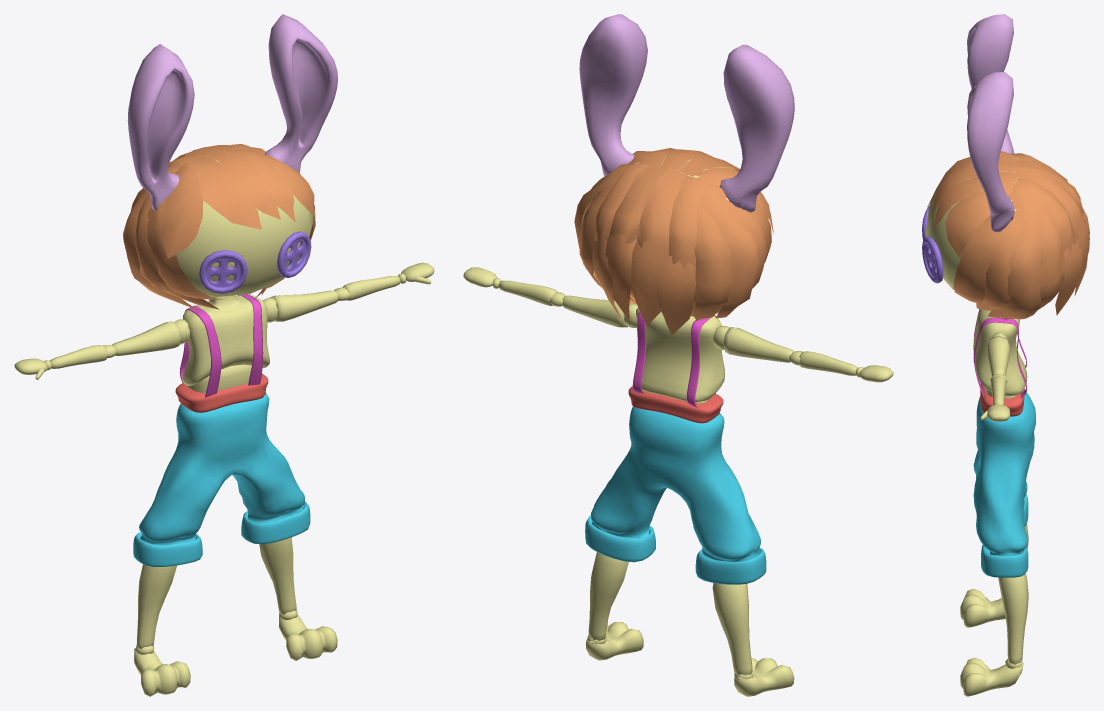
Rendered from Cordelia4.fbx.
The picture shows the model from 3 angles, left to right: view 1: azimuth 30°, elevation 25°; view 2: azimuth 150°, elevation 25°; view 3: azimuth 270°, elevation 25°; orthographic projection. The views are drawn at different scales.
Parts seen in each view (by area): view 1: Retopo_Sphere.026, Retopo_Sphere.021, Retopo_Sphere.022, Retopo_Sphere.002, Retopo_Sphere.003, Retopo_Sphere.025, Retopo_Sphere.019, Retopo_Sphere.007, Retopo_Sphere.020, Retopo_Sphere.008, Retopo_Sphere.030, Retopo_Sphere.010 (+15 smaller); view 2: Retopo_Sphere.026, Retopo_Sphere.021, Retopo_Sphere.022, Retopo_Sphere.003, Retopo_Sphere.039, Retopo_Sphere.034, Retopo_Sphere.038, Retopo_Sphere.007, Retopo_Sphere.036, Retopo_Sphere.008, Retopo_Sphere.041, Retopo_Sphere.043 (+16 smaller); view 3: Retopo_Sphere.026, Retopo_Sphere.022, Retopo_Sphere.033, Retopo_Sphere.021, Retopo_Sphere.029, Retopo_Sphere.003, Retopo_Sphere.031, Retopo_Sphere.037, Retopo_Sphere.008, Retopo_Sphere.024, Retopo_Sphere.039, Retopo_Sphere.010 (+14 smaller).
Part boxes in pixels (x1=…): Retopo_Sphere.026: x1=133, y1=392, x2=310, y2=566; Retopo_Sphere.021: x1=127, y1=44, x2=194, y2=210; Retopo_Sphere.022: x1=265, y1=14, x2=337, y2=172; Retopo_Sphere.002: x1=176, y1=151, x2=312, y2=297; Retopo_Sphere.003: x1=182, y1=295, x2=269, y2=385; Retopo_Sphere.025: x1=160, y1=161, x2=203, y2=258; Retopo_Sphere.019: x1=192, y1=156, x2=261, y2=229; Retopo_Sphere.007: x1=136, y1=564, x2=176, y2=648; Retopo_Sphere.020: x1=207, y1=151, x2=280, y2=219; Retopo_Sphere.008: x1=259, y1=537, x2=296, y2=614; Retopo_Sphere.030: x1=147, y1=198, x2=224, y2=299; Retopo_Sphere.010: x1=279, y1=614, x2=337, y2=660; Retopo_Sphere.026: x1=585, y1=406, x2=766, y2=584; Retopo_Sphere.021: x1=719, y1=44, x2=794, y2=212; Retopo_Sphere.022: x1=579, y1=14, x2=647, y2=176; Retopo_Sphere.003: x1=636, y1=308, x2=724, y2=402; Retopo_Sphere.039: x1=609, y1=165, x2=687, y2=311; Retopo_Sphere.034: x1=699, y1=182, x2=759, y2=318; Retopo_Sphere.038: x1=694, y1=177, x2=732, y2=320; Retopo_Sphere.007: x1=712, y1=583, x2=752, y2=675; Retopo_Sphere.036: x1=669, y1=175, x2=703, y2=316; Retopo_Sphere.008: x1=588, y1=552, x2=628, y2=640; Retopo_Sphere.041: x1=630, y1=240, x2=667, y2=326; Retopo_Sphere.043: x1=657, y1=255, x2=694, y2=335; Retopo_Sphere.026: x1=973, y1=392, x2=1035, y2=577; Retopo_Sphere.022: x1=967, y1=72, x2=1014, y2=232; Retopo_Sphere.033: x1=987, y1=186, x2=1041, y2=319; Retopo_Sphere.021: x1=967, y1=14, x2=1014, y2=153; Retopo_Sphere.029: x1=953, y1=215, x2=1011, y2=303; Retopo_Sphere.003: x1=973, y1=309, x2=1027, y2=395; Retopo_Sphere.031: x1=976, y1=215, x2=1022, y2=310; Retopo_Sphere.037: x1=1004, y1=182, x2=1062, y2=319; Retopo_Sphere.008: x1=998, y1=574, x2=1028, y2=664; Retopo_Sphere.024: x1=945, y1=182, x2=1015, y2=258; Retopo_Sphere.039: x1=1015, y1=160, x2=1083, y2=239; Retopo_Sphere.010: x1=960, y1=657, x2=1023, y2=696.
Bounding box in the file's own units: 211 × 307 × 76.49.
